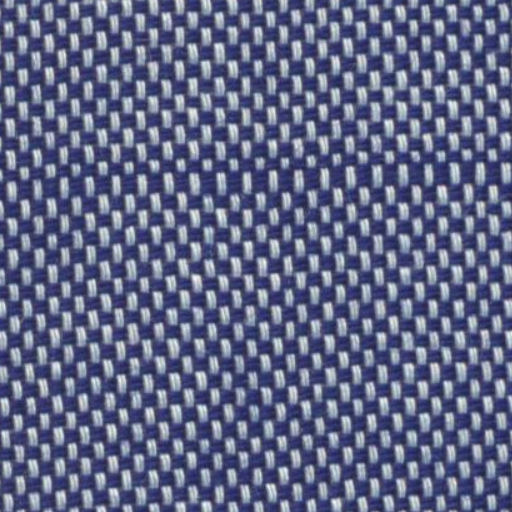TuoSha: (20, 152, 501, 224)
